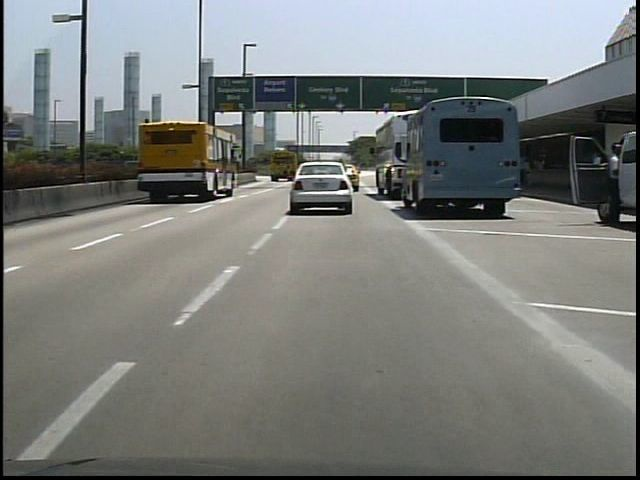person: (589, 139, 620, 229)
